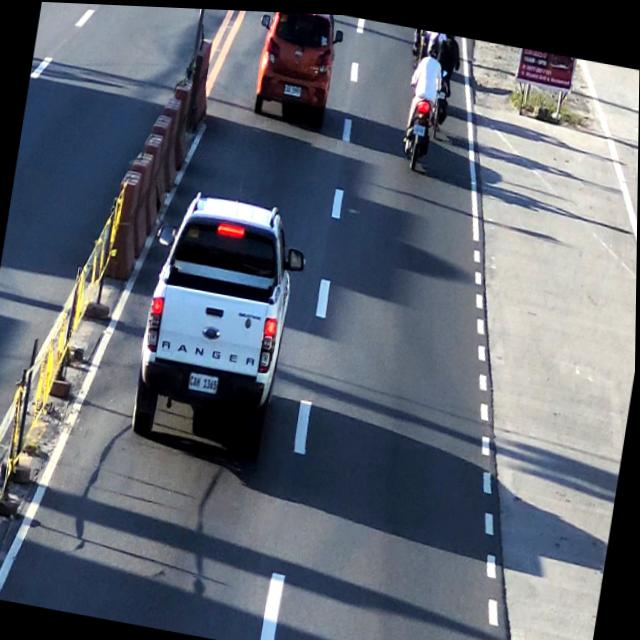Car: (123, 184, 302, 469), (250, 9, 345, 126)
License-Plate: (184, 367, 222, 397), (281, 79, 304, 98), (411, 118, 428, 136)
Motorcycle: (395, 32, 449, 176)
